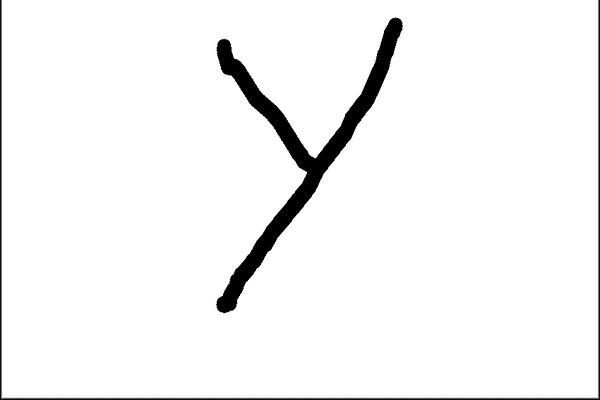Y: (200, 8, 408, 328)
